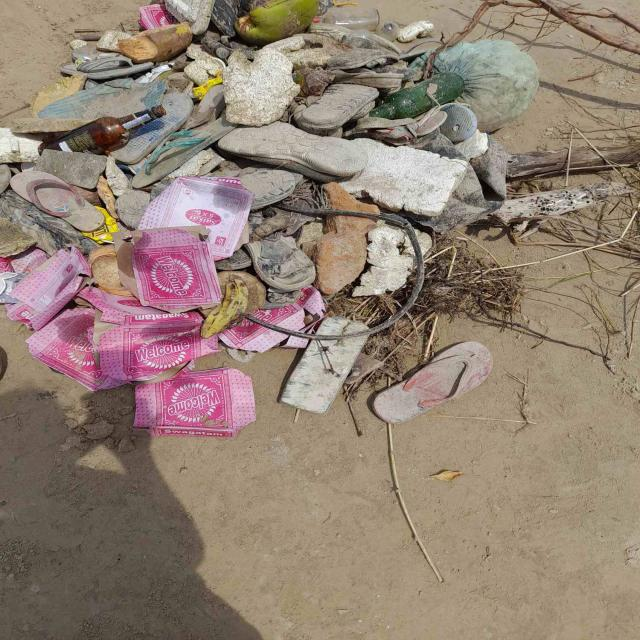biowaste: (430, 0, 640, 70), (493, 181, 640, 258), (507, 120, 640, 183), (234, 0, 318, 45), (117, 21, 192, 63), (200, 275, 248, 338), (621, 280, 640, 340)
glass: (44, 105, 165, 154), (370, 72, 464, 118), (321, 7, 380, 30), (341, 29, 375, 48), (375, 20, 401, 41)
other: (372, 341, 493, 424), (434, 38, 539, 131), (218, 121, 367, 177), (132, 116, 236, 188), (111, 92, 193, 164), (9, 171, 103, 232), (294, 84, 379, 136), (245, 234, 315, 291), (239, 168, 302, 209), (60, 54, 153, 79), (440, 104, 478, 142)
paper: (26, 309, 218, 391), (138, 177, 253, 260), (132, 368, 255, 438), (113, 226, 220, 306), (6, 246, 90, 330), (217, 318, 287, 352), (252, 301, 305, 330), (81, 206, 119, 244), (138, 3, 175, 29)
